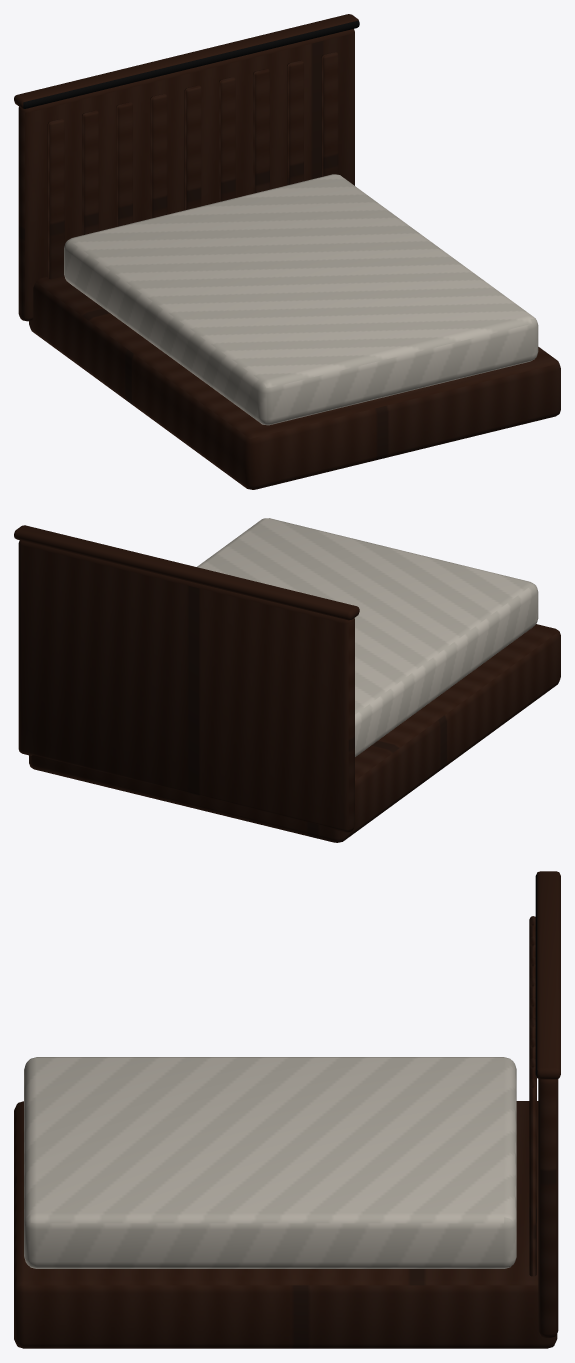
File: modern_bed_03.glb
The picture shows the model from 3 angles, top to bottom: view 1: azimuth 30°, elevation 25°; view 2: azimuth 150°, elevation 25°; view 3: azimuth 270°, elevation 25°; orthographic projection. The views are drawn at different scales.
Parts seen in each view (by area): view 1: modern_bed_03; view 2: modern_bed_03; view 3: modern_bed_03.
Part boxes in pixels (box(x1,y1,x2,y2)): modern_bed_03: box(14, 14, 560, 489); modern_bed_03: box(14, 518, 560, 842); modern_bed_03: box(14, 871, 560, 1348).
Bounding box in the file's own units: 1.88 × 1.26 × 2.16.
Materials: 3 (3 with a texture image).
